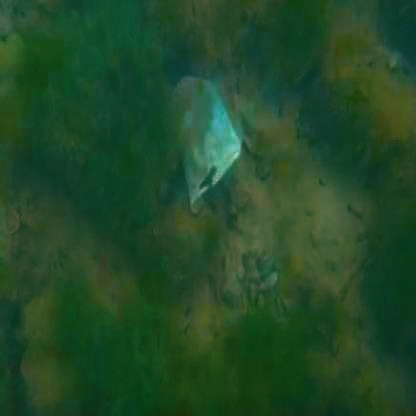plastic: (169, 67, 240, 213)
